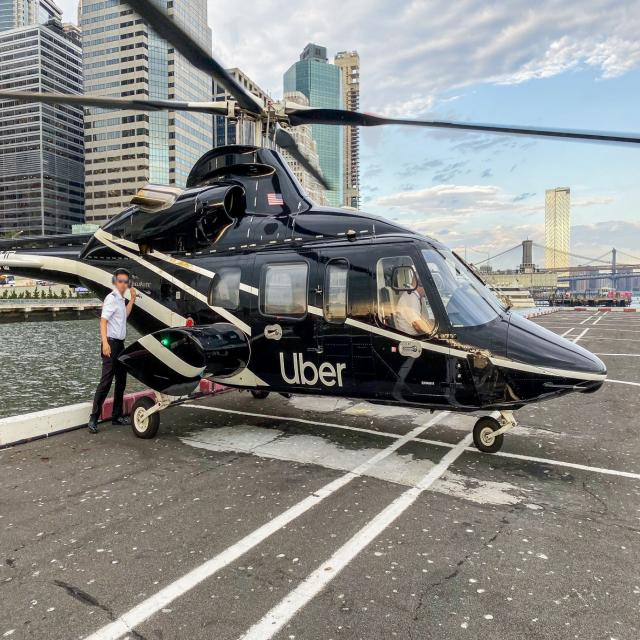helicopter: (1, 59, 640, 460)
